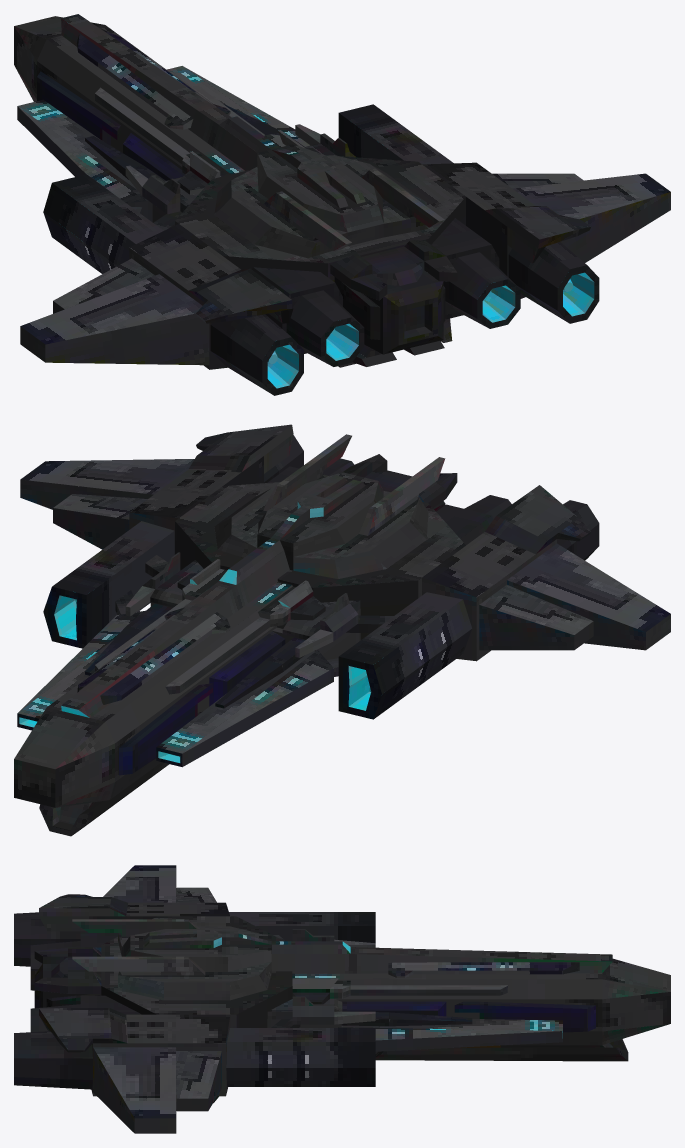
File: ship-transformed.glb
3 views of the same model, one above another, from view 1: azimuth 30°, elevation 25°; view 2: azimuth 150°, elevation 25°; view 3: azimuth 270°, elevation 25° (orthographic). The views are drawn at different scales.
Visible parts, largest first — view 1: Object_40, Object_26, Object_9, Object_91, Object_105, Object_114; view 2: Object_40, Object_26, Object_9, Object_105, Object_91; view 3: Object_40, Object_9, Object_26, Object_91, Object_105.
Part boxes in pixels (x1,y1,x2,y2): Object_40: [17, 14, 457, 300]; Object_26: [20, 162, 670, 369]; Object_9: [14, 16, 465, 354]; Object_91: [210, 218, 599, 395]; Object_105: [95, 72, 355, 214]; Object_114: [267, 259, 452, 367]; Object_40: [17, 434, 471, 775]; Object_26: [20, 424, 670, 661]; Object_9: [14, 470, 465, 836]; Object_105: [95, 552, 360, 694]; Object_91: [264, 435, 599, 574]; Object_40: [34, 912, 612, 1086]; Object_9: [34, 916, 670, 1061]; Object_26: [39, 865, 230, 1133]; Object_91: [14, 912, 141, 1089]; Object_105: [267, 929, 507, 1024].
Size of the model in its own units: 4.5 by 1.16 by 4.94.
Materials: 6 (6 with a texture image).
